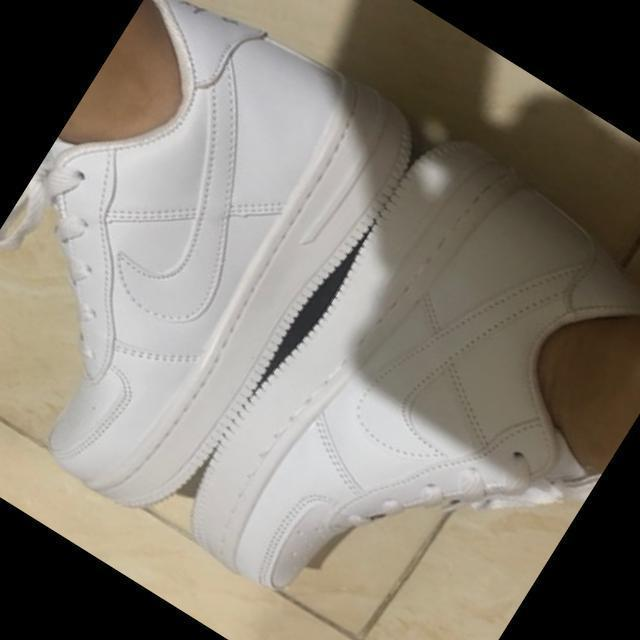nike fake air force: (164, 105, 640, 640), (0, 0, 441, 547)
